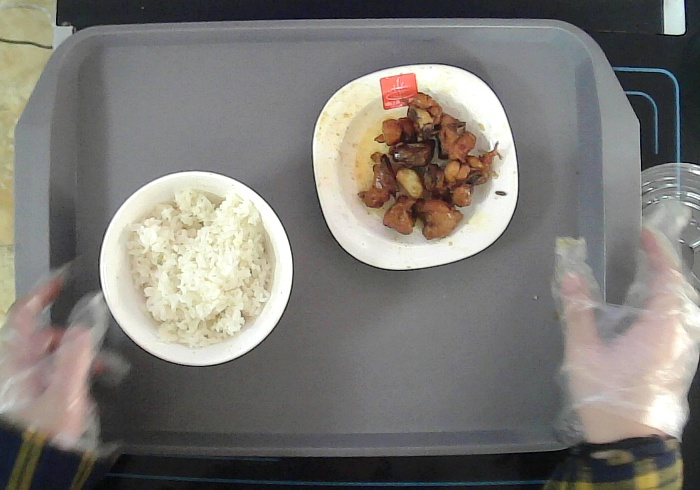SHKJ-Bai_Se_Si_Fang_Cai_Die: (312, 63, 519, 271)
SHKJ-Fan_Wan: (100, 169, 294, 366)
